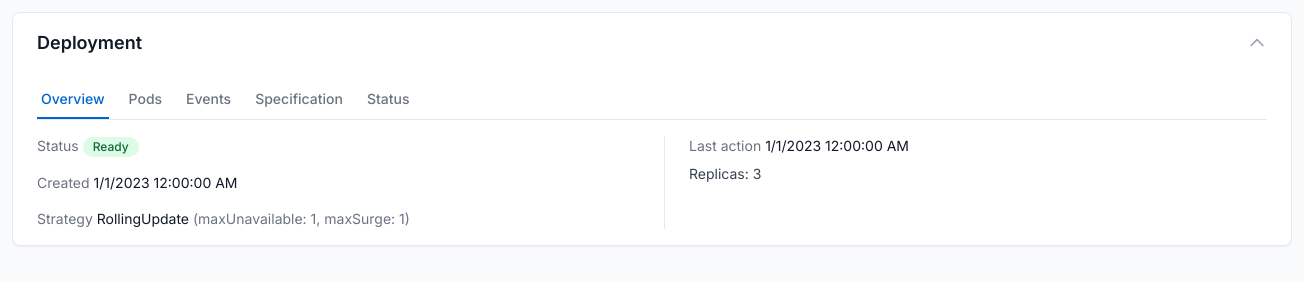
Test: WorkloadDetailPanel component › Pods tab › should display current pod usage when metrics are present
Click the button "Pods" at [145, 100], box top-left (124, 81), bottom-right (166, 119)
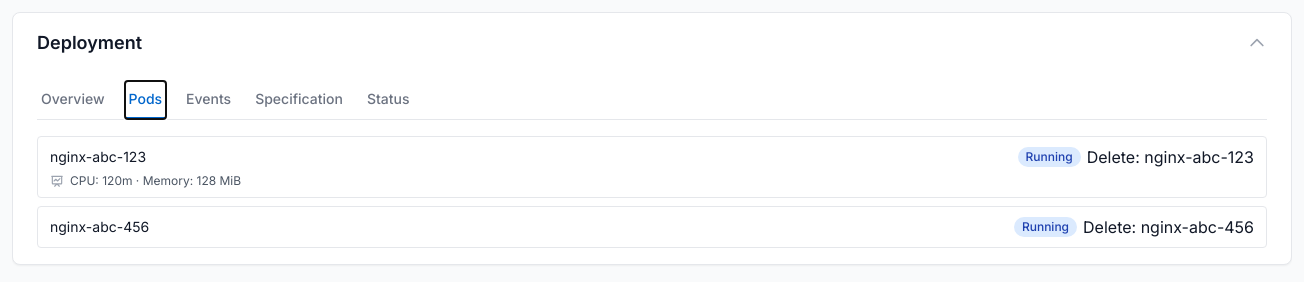
Expected: the element with test id "pod-metrics" does not show "of limit", top-left (50, 173), bottom-right (241, 188)
Result: the number of elements with test id "pod-metrics" is 1 at top-left (50, 173), bottom-right (241, 188)
Result: the element with test id "pod-metrics" reads "CPU: 120m · Memory: 128 MiB" at top-left (50, 173), bottom-right (241, 188)
